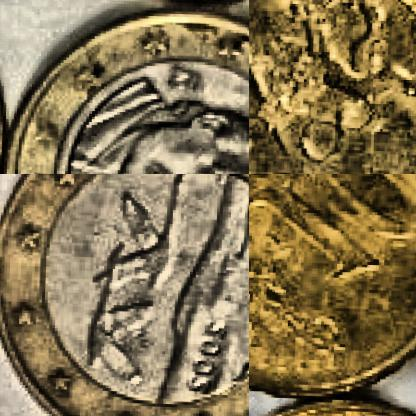coin: (0, 174, 248, 415), (0, 0, 248, 173), (249, 174, 415, 408), (249, 0, 415, 173)
